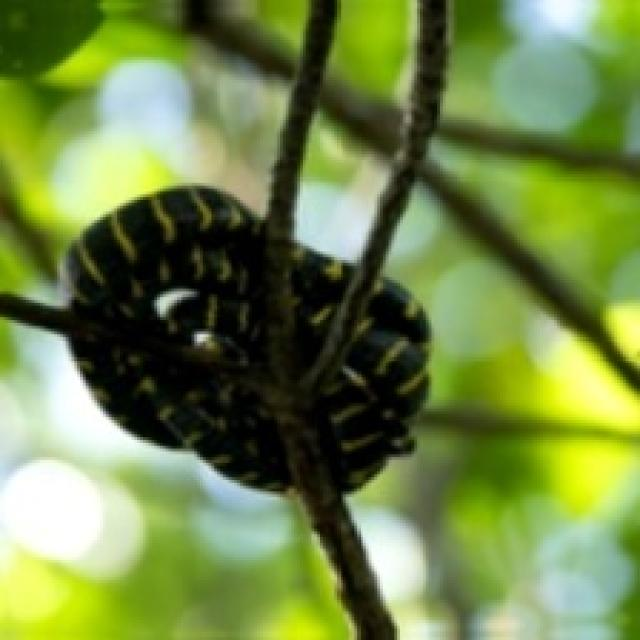mangrove cat snake: (62, 186, 291, 491), (63, 186, 289, 489), (66, 186, 289, 489), (316, 279, 428, 491), (314, 280, 426, 489), (317, 280, 426, 489), (296, 245, 352, 364)
